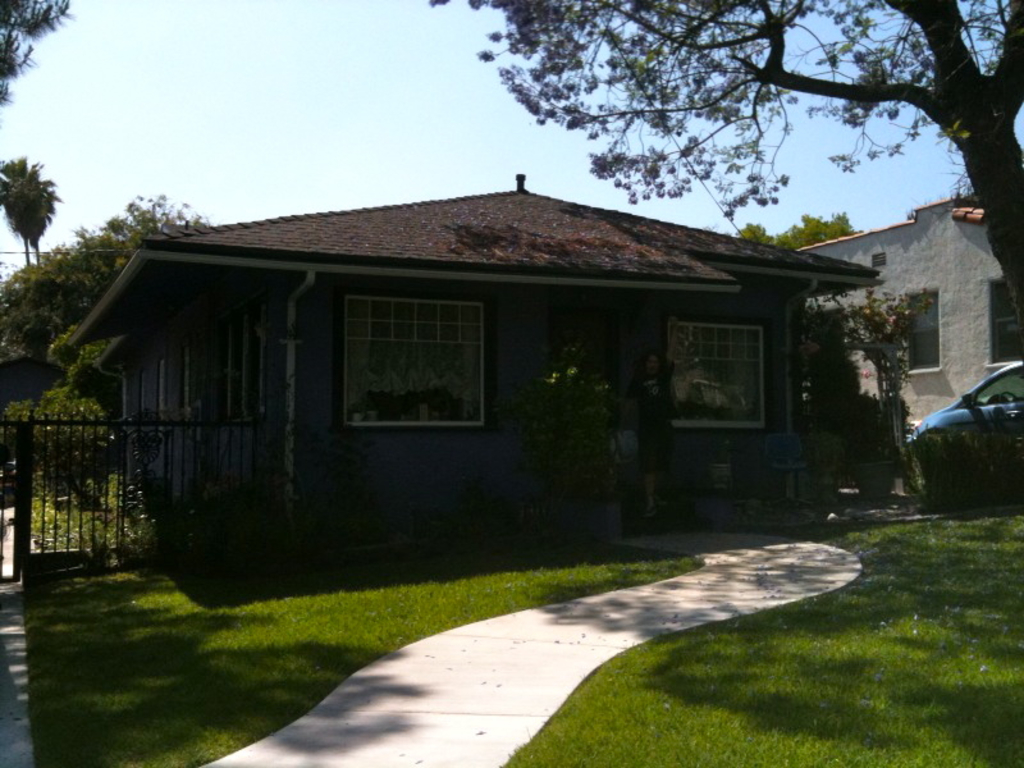Car: (913, 362, 1022, 508)
